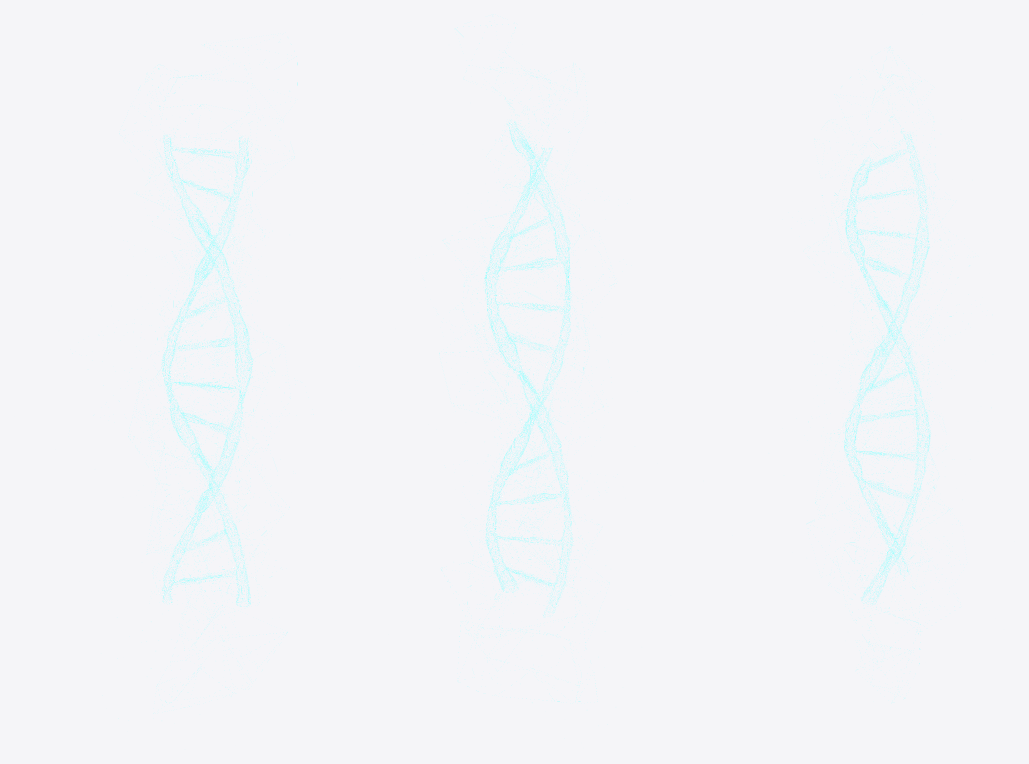
The picture shows the model from 3 angles, left to right: view 1: azimuth 30°, elevation 25°; view 2: azimuth 150°, elevation 25°; view 3: azimuth 270°, elevation 25°; orthographic projection. The views are drawn at different scales.
Visible parts, largest first — view 1: DNA.007, DNA.003, DNA.011; view 2: DNA.007, DNA.003, DNA.008, DNA.011; view 3: DNA.007, DNA.003, DNA.008.
Part boxes in pixels (x1,y1,x2,y2): DNA.007: [162, 135, 251, 606]; DNA.003: [161, 138, 252, 606]; DNA.011: [161, 139, 252, 600]; DNA.007: [485, 120, 571, 617]; DNA.003: [484, 121, 573, 615]; DNA.008: [439, 24, 616, 701]; DNA.011: [484, 125, 573, 613]; DNA.007: [844, 131, 929, 600]; DNA.003: [844, 135, 930, 604]; DNA.008: [807, 46, 969, 698].
Size of the model in its own units: 564 by 1533 by 563.
